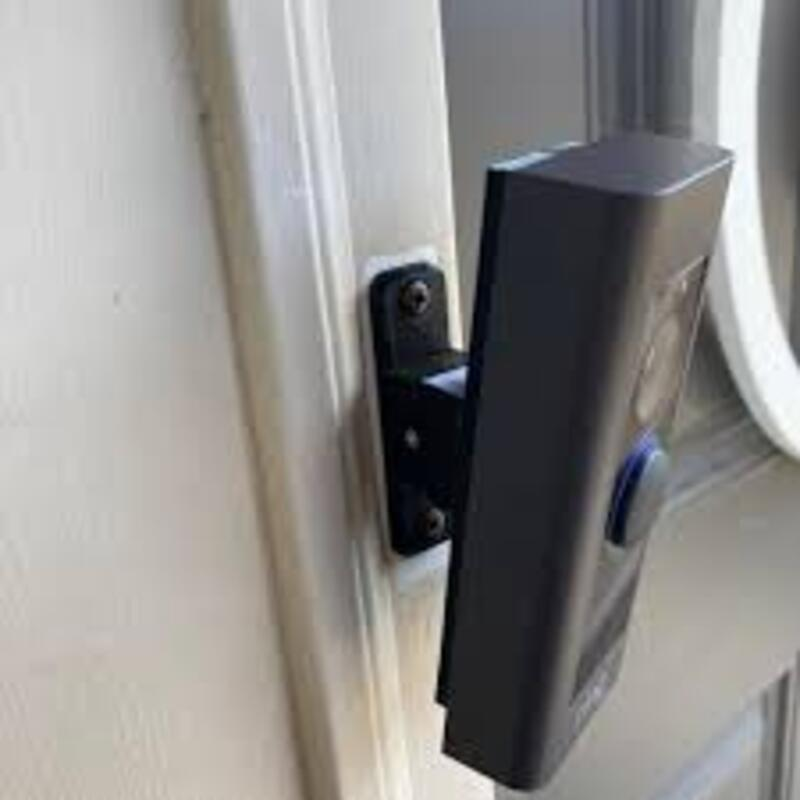doorbell: (442, 142, 733, 786)
